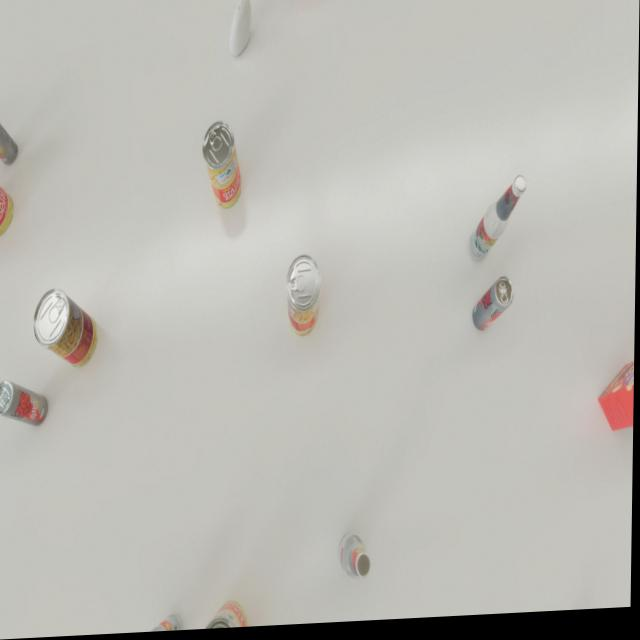Bottle: (469, 180, 527, 268), (339, 534, 372, 587), (128, 614, 185, 634)
Potato_sticks: (33, 287, 99, 370), (202, 123, 243, 212), (287, 257, 322, 340), (200, 603, 250, 631), (0, 150, 15, 237)
Rita_zero_sugar: (0, 378, 50, 428), (473, 281, 515, 336), (0, 97, 20, 164)
Salt: (230, 0, 252, 59)
